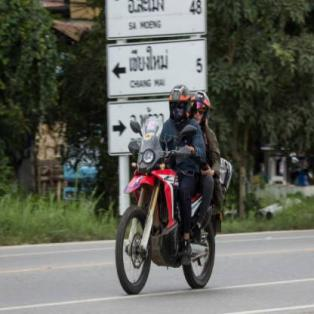Motocicleta: (111, 124, 226, 298)
